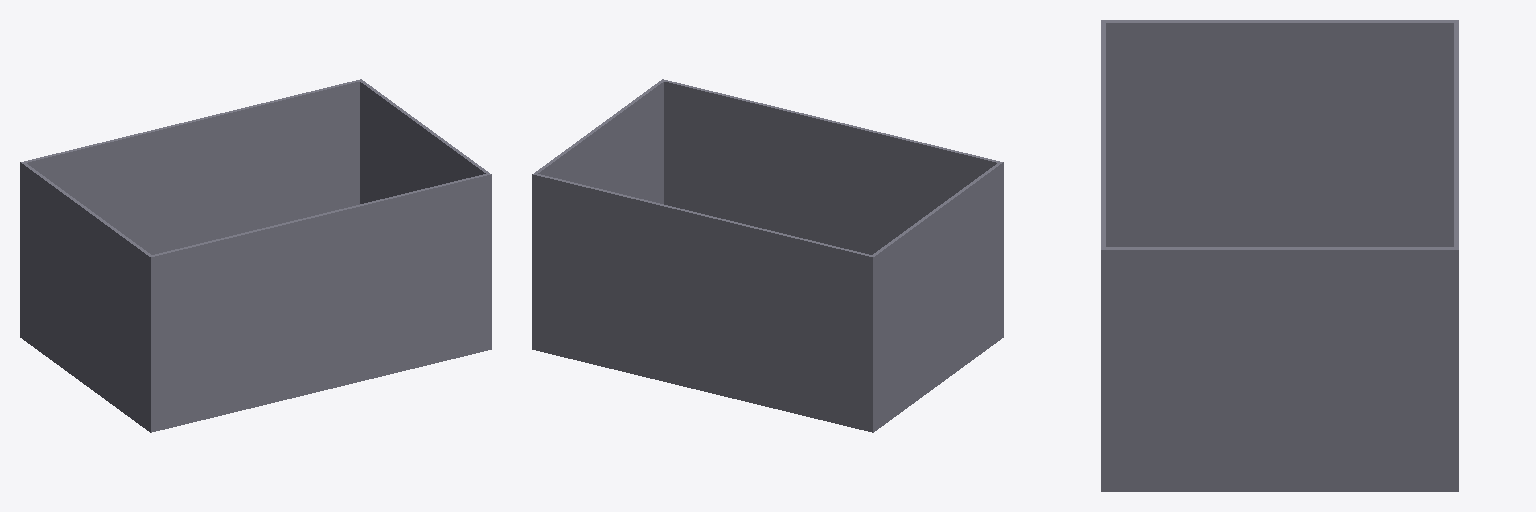
The robot description file, URDF, robot "box":
<?xml version="1.0" encoding="utf-8"?>
<!-- Hollow drop-zone container: a bottom plus 4 thin walls, NOT a solid
     box (a solid box would make it impossible for anything to ever be
     placed inside it). Outer footprint 0.295 x 0.195 m, overall height
     0.145 m, wall/bottom thickness 0.003 m (inner opening 0.289 x 0.189 m,
     wall height 0.142 m). Pose is set entirely by the SE3 argument
     passed to urdf.loadModel() in orchestrator.py (this file only defines
     shape, relative to its own base_link at the container's bottom-outer
     surface, centered in x/y). -->
<robot name="box">

  <material name="box_grey">
    <color rgba="0.55 0.55 0.6 1.0"/>
  </material>

  <!-- Virtual root -->
  <link name="base_link"/>

  <!-- Bottom: 0.295 x 0.195 x 0.003 m, centred at z = 0.0015 m -->
  <joint name="box_bottom_joint" type="fixed">
    <parent link="base_link"/>
    <child link="box_bottom_link"/>
    <origin xyz="0 0 0.0015" rpy="0 0 0"/>
  </joint>
  <link name="box_bottom_link">
    <visual>
      <geometry><box size="0.295 0.195 0.003"/></geometry>
      <material name="box_grey"/>
    </visual>
    <collision>
      <geometry><box size="0.295 0.195 0.003"/></geometry>
    </collision>
    <inertial>
      <mass value="0.2"/>
      <inertia ixx="0.001" ixy="0" ixz="0" iyy="0.001" iyz="0" izz="0.001"/>
    </inertial>
  </link>

  <!-- Walls: 0.142 m tall, sit on top of the bottom (z = 0.003 to 0.145,
       centred at z = 0.074), inner opening 0.289 x 0.189 m. -->

  <joint name="box_wall_front_joint" type="fixed">
    <parent link="base_link"/>
    <child link="box_wall_front_link"/>
    <origin xyz="0.146 0 0.074" rpy="0 0 0"/>
  </joint>
  <link name="box_wall_front_link">
    <visual>
      <geometry><box size="0.003 0.195 0.142"/></geometry>
      <material name="box_grey"/>
    </visual>
    <collision>
      <geometry><box size="0.003 0.195 0.142"/></geometry>
    </collision>
    <inertial>
      <mass value="0.1"/>
      <inertia ixx="0.001" ixy="0" ixz="0" iyy="0.001" iyz="0" izz="0.001"/>
    </inertial>
  </link>

  <joint name="box_wall_back_joint" type="fixed">
    <parent link="base_link"/>
    <child link="box_wall_back_link"/>
    <origin xyz="-0.146 0 0.074" rpy="0 0 0"/>
  </joint>
  <link name="box_wall_back_link">
    <visual>
      <geometry><box size="0.003 0.195 0.142"/></geometry>
      <material name="box_grey"/>
    </visual>
    <collision>
      <geometry><box size="0.003 0.195 0.142"/></geometry>
    </collision>
    <inertial>
      <mass value="0.1"/>
      <inertia ixx="0.001" ixy="0" ixz="0" iyy="0.001" iyz="0" izz="0.001"/>
    </inertial>
  </link>

  <joint name="box_wall_left_joint" type="fixed">
    <parent link="base_link"/>
    <child link="box_wall_left_link"/>
    <origin xyz="0 0.096 0.074" rpy="0 0 0"/>
  </joint>
  <link name="box_wall_left_link">
    <visual>
      <geometry><box size="0.295 0.003 0.142"/></geometry>
      <material name="box_grey"/>
    </visual>
    <collision>
      <geometry><box size="0.295 0.003 0.142"/></geometry>
    </collision>
    <inertial>
      <mass value="0.1"/>
      <inertia ixx="0.001" ixy="0" ixz="0" iyy="0.001" iyz="0" izz="0.001"/>
    </inertial>
  </link>

  <joint name="box_wall_right_joint" type="fixed">
    <parent link="base_link"/>
    <child link="box_wall_right_link"/>
    <origin xyz="0 -0.096 0.074" rpy="0 0 0"/>
  </joint>
  <link name="box_wall_right_link">
    <visual>
      <geometry><box size="0.295 0.003 0.142"/></geometry>
      <material name="box_grey"/>
    </visual>
    <collision>
      <geometry><box size="0.295 0.003 0.142"/></geometry>
    </collision>
    <inertial>
      <mass value="0.1"/>
      <inertia ixx="0.001" ixy="0" ixz="0" iyy="0.001" iyz="0" izz="0.001"/>
    </inertial>
  </link>

</robot>

--- Render facts (derived) ---
3 views of the same robot in one strip: view 1: azimuth 30°, elevation 25°; view 2: azimuth 150°, elevation 25°; view 3: azimuth 270°, elevation 25° (orthographic).
Model box with 6 links and 5 joints (5 fixed), rooted at base_link, posed all joints at 0.
Links seen in each view (by area): view 1: box_wall_right_link, box_wall_left_link, box_wall_back_link, box_wall_front_link, box_bottom_link; view 2: box_wall_left_link, box_wall_right_link, box_wall_back_link, box_wall_front_link, box_bottom_link; view 3: box_wall_front_link, box_wall_back_link, box_bottom_link, box_wall_left_link, box_wall_right_link.
Link boxes in pixels (bbox=[...]): box_wall_right_link: bbox=[149, 173, 491, 428]; box_wall_left_link: bbox=[20, 80, 359, 333]; box_wall_back_link: bbox=[20, 162, 153, 428]; box_wall_front_link: bbox=[359, 79, 491, 344]; box_bottom_link: bbox=[20, 334, 491, 432]; box_wall_left_link: bbox=[532, 173, 874, 428]; box_wall_right_link: bbox=[664, 80, 1003, 333]; box_wall_back_link: bbox=[870, 162, 1003, 428]; box_wall_front_link: bbox=[532, 79, 664, 346]; box_bottom_link: bbox=[532, 334, 1003, 432]; box_wall_front_link: bbox=[1101, 247, 1458, 486]; box_wall_back_link: bbox=[1101, 20, 1458, 246]; box_bottom_link: bbox=[1101, 487, 1458, 491]; box_wall_left_link: bbox=[1454, 20, 1458, 486]; box_wall_right_link: bbox=[1101, 20, 1105, 486].
Bounding box of the posed robot: 0.295 × 0.195 × 0.145 m (x, y, z).
Geometry: primitives only (box / cylinder / sphere), no mesh files.
